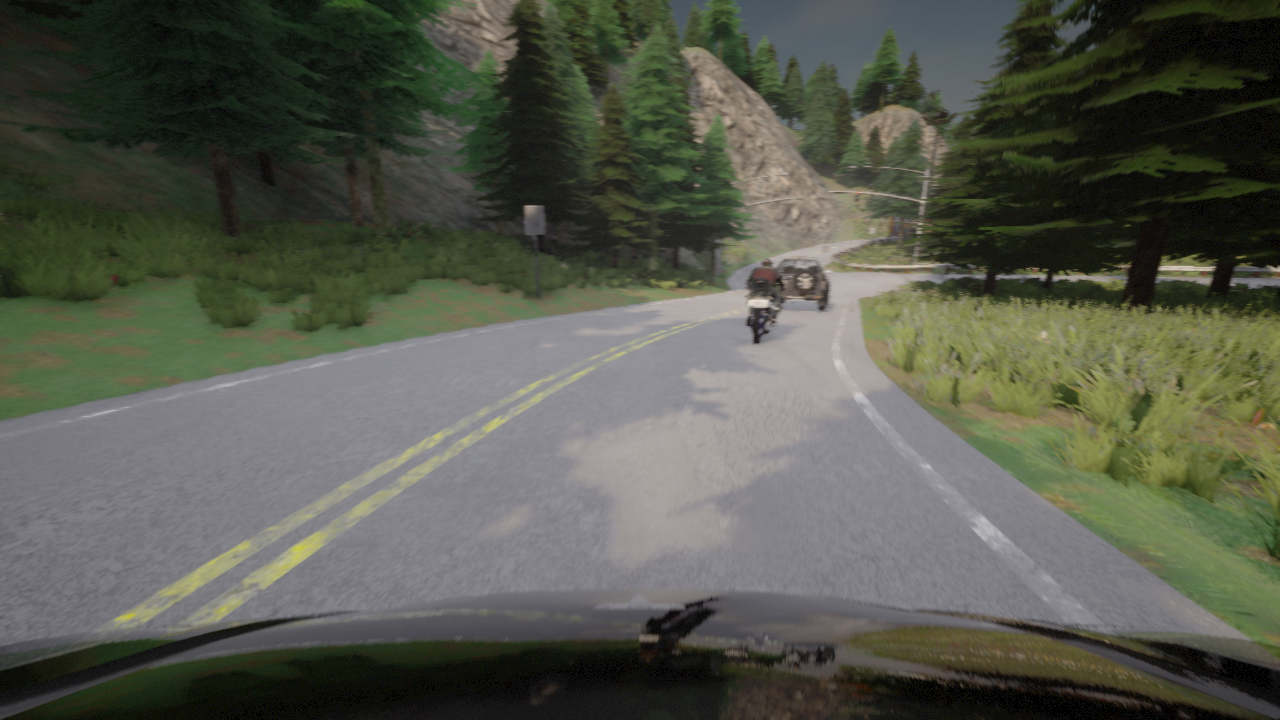cyclist: (0, 588, 1279, 719), (743, 275, 791, 344), (777, 256, 831, 310), (889, 216, 929, 236)
